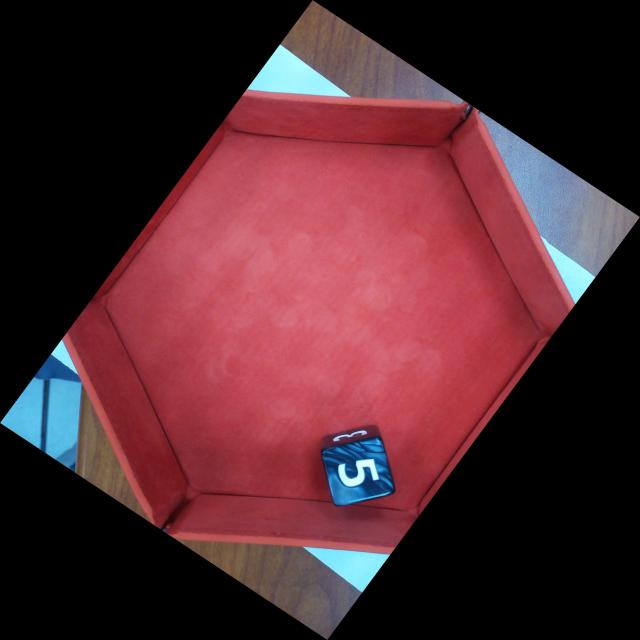dice: (322, 435, 393, 508)
